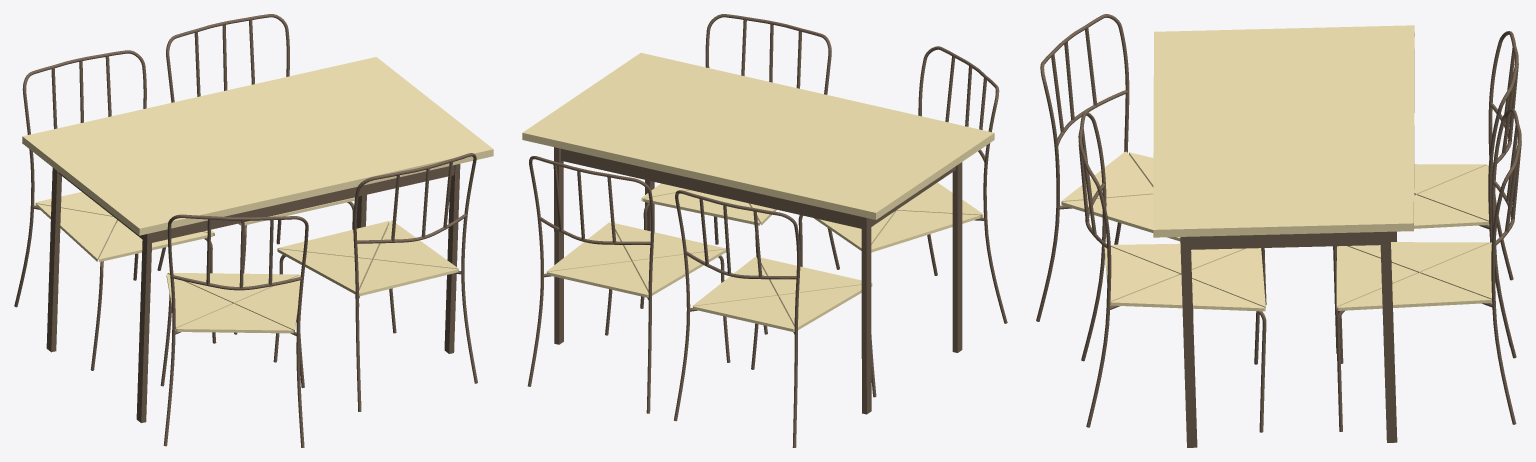
The picture shows the model from 3 angles, left to right: view 1: azimuth 30°, elevation 25°; view 2: azimuth 150°, elevation 25°; view 3: azimuth 270°, elevation 25°; orthographic projection. The views are drawn at different scales.
Visible parts, largest first — view 1: 3DSMeshMatrix (×5); view 2: 3DSMeshMatrix (×5); view 3: 3DSMeshMatrix (×5).
Part boxes in pixels (<box>): 3DSMeshMatrix (×5): <box>14,14,493,447</box>; 3DSMeshMatrix (×5): <box>522,14,1007,447</box>; 3DSMeshMatrix (×5): <box>1036,14,1521,447</box>.
Size of the model in its own units: 130 by 84.67 by 140.
